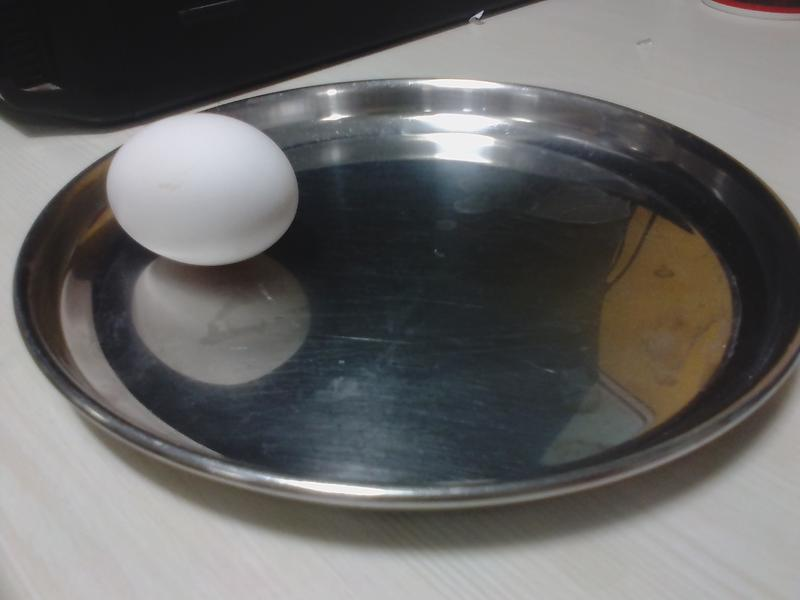egg: (109, 118, 297, 261)
